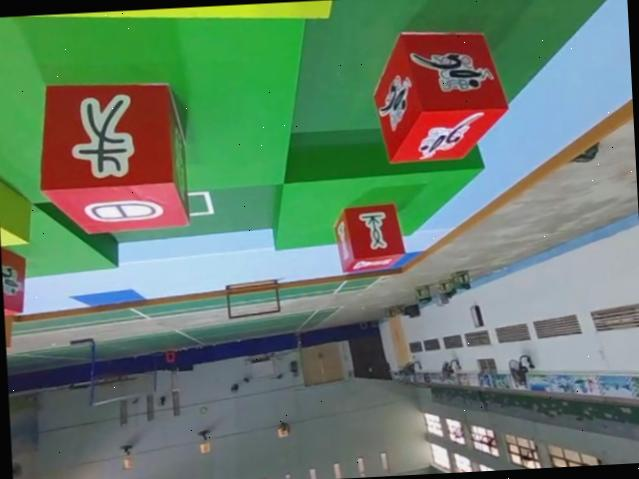R1: (369, 23, 513, 166), (0, 242, 29, 320)
R2 Fake: (31, 74, 194, 240)
R2 Real: (330, 200, 409, 277)
